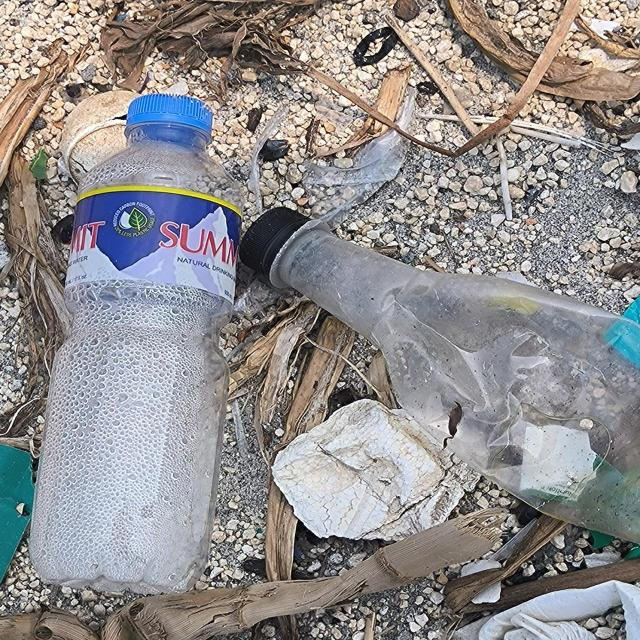plastic_waste: (237, 205, 640, 545), (25, 93, 249, 598)
styrofoam_waste: (272, 399, 450, 542)
